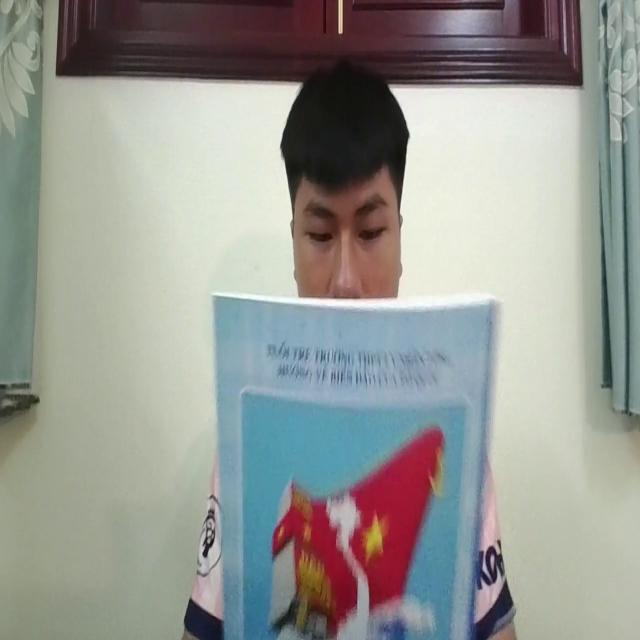book: (211, 286, 497, 640)
student: (281, 50, 410, 311)
